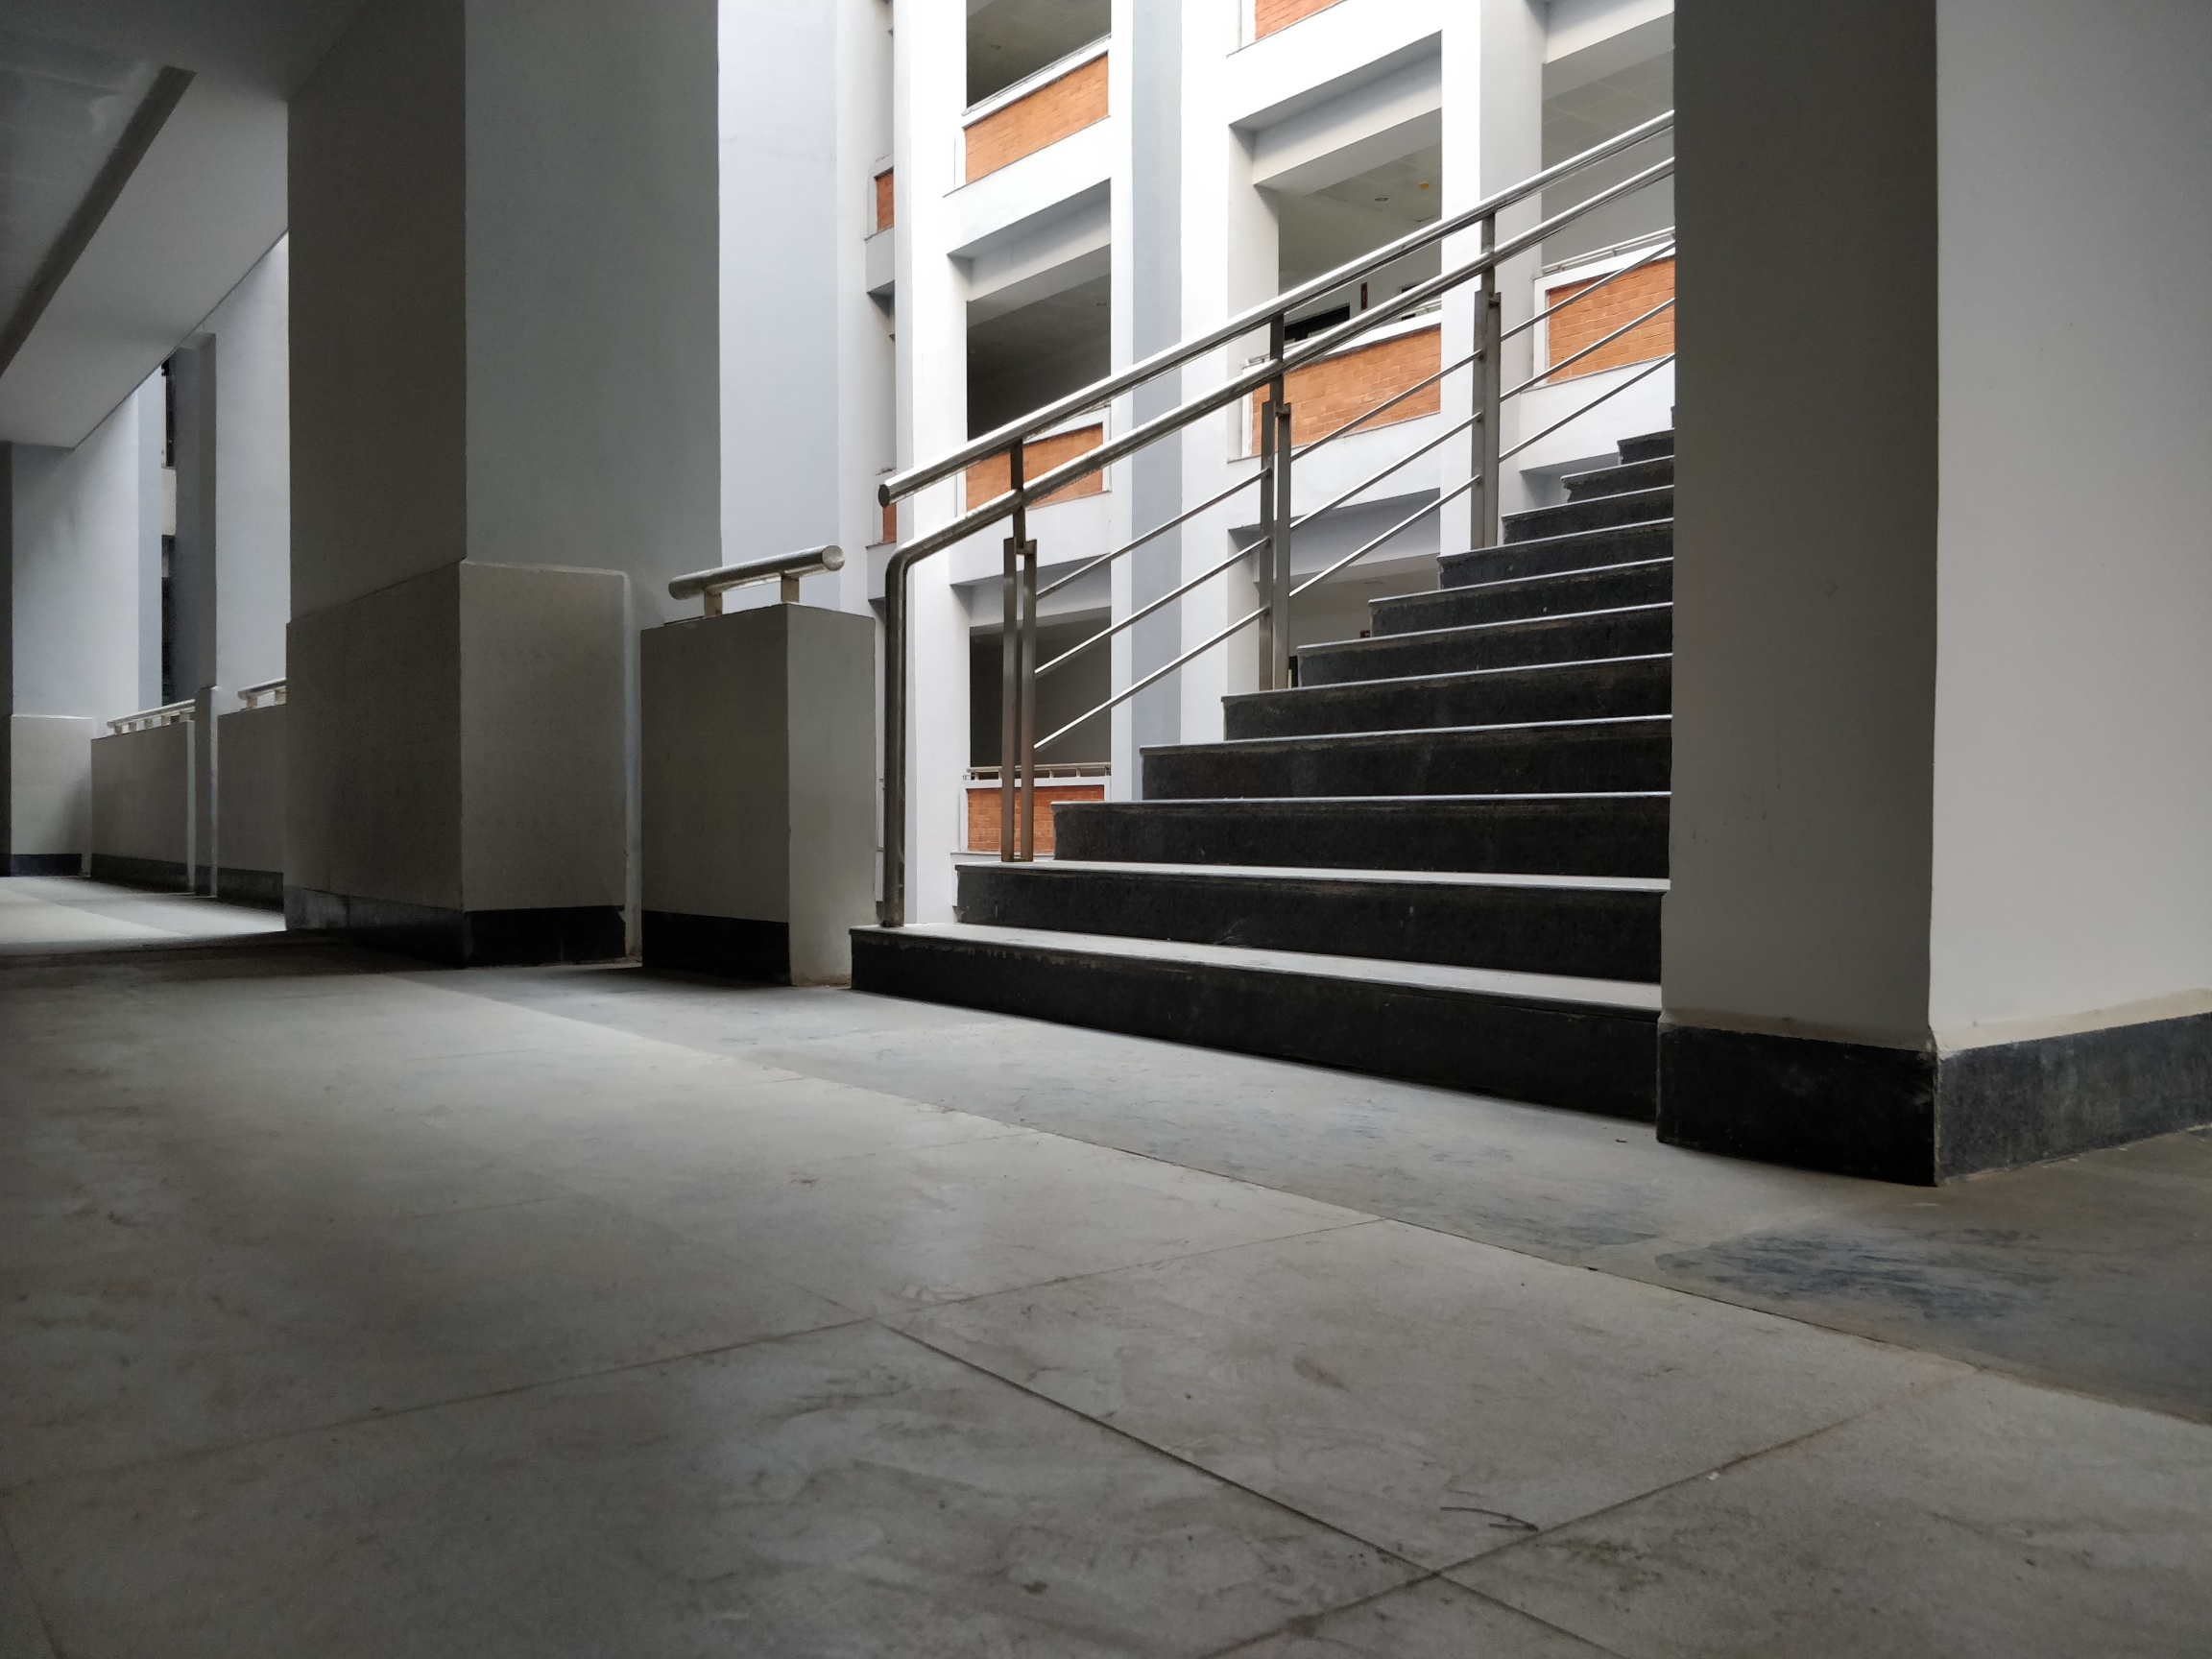stairs_up: (878, 432, 1679, 1080)
